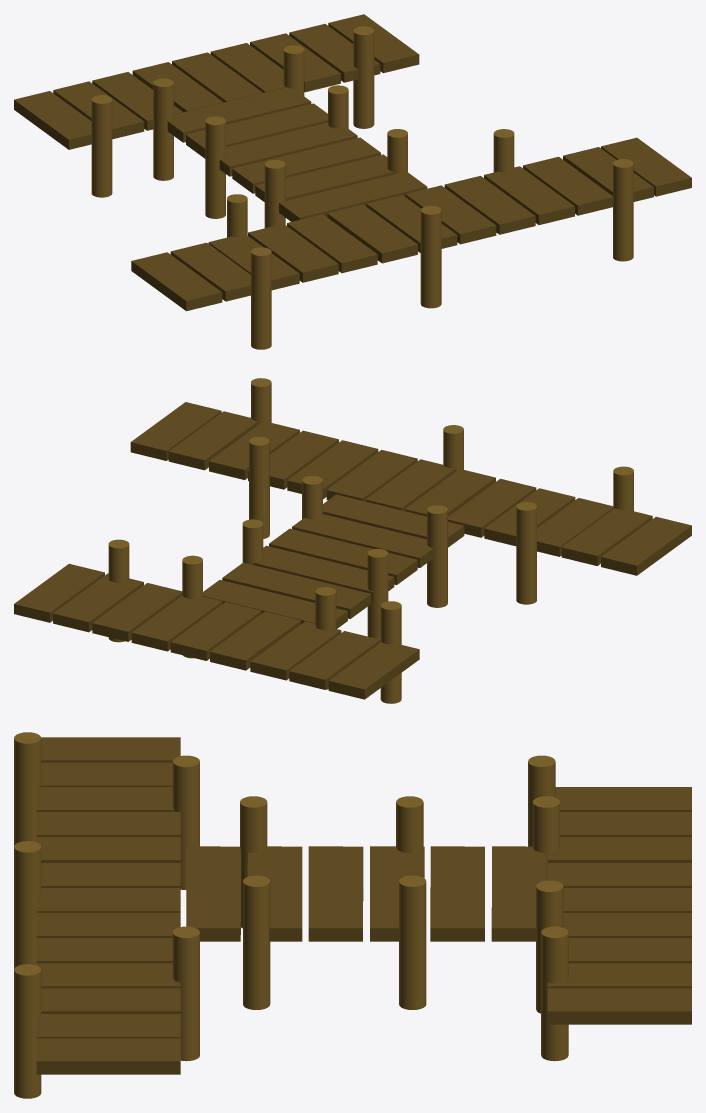
File: port_pier.fbx
3 views of the same model, one above another, from view 1: azimuth 30°, elevation 25°; view 2: azimuth 150°, elevation 25°; view 3: azimuth 270°, elevation 25° (orthographic). The views are drawn at different scales.
Visible parts, largest first — view 1: pasted__pasted__pCube1 (×10), pasted__pasted__pasted__pCube1 (×9), pasted__pCube1 (×5), pasted__pasted__pasted__pasted__pCube1 (×3), pasted__pasted__pasted__pCylinder1 (×4), pasted__pasted__pCylinder1 (×4), pasted__pCylinder1 (×3), pCylinder1, pCube1, pasted__pasted__pasted__pasted__pCylinder1; view 2: pasted__pasted__pCube1 (×10), pasted__pasted__pasted__pCube1 (×9), pasted__pCube1 (×5), pasted__pasted__pasted__pasted__pCube1 (×3), pasted__pasted__pCylinder1 (×4), pasted__pasted__pasted__pCylinder1 (×4), pasted__pCylinder1 (×3), pCube1, pCylinder1, pasted__pasted__pasted__pasted__pCylinder1; view 3: pasted__pasted__pCube1 (×10), pasted__pasted__pasted__pCube1 (×9), pasted__pCube1 (×5), pasted__pasted__pasted__pasted__pCube1 (×3), pasted__pasted__pasted__pCylinder1 (×4), pasted__pasted__pCylinder1 (×4), pasted__pCylinder1 (×3), pasted__pasted__pasted__pasted__pCylinder1, pCube1, pCylinder1.
Boxes of the visible parts, x1,y1,x2,y2 form: pasted__pasted__pCube1 (×10): [132, 14, 574, 301]; pasted__pasted__pasted__pCube1 (×9): [131, 137, 653, 311]; pasted__pCube1 (×5): [14, 24, 380, 282]; pasted__pasted__pasted__pasted__pCube1 (×3): [279, 137, 691, 221]; pasted__pasted__pasted__pCylinder1 (×4): [264, 85, 633, 308]; pasted__pasted__pCylinder1 (×4): [205, 45, 514, 349]; pasted__pCylinder1 (×3): [153, 26, 374, 237]; pCylinder1: [91, 95, 112, 197]; pCube1: [53, 81, 144, 139]; pasted__pasted__pasted__pasted__pCylinder1: [387, 129, 407, 174]; pasted__pasted__pCube1 (×10): [14, 430, 652, 670]; pasted__pasted__pasted__pCube1 (×9): [168, 411, 691, 584]; pasted__pCube1 (×5): [53, 488, 575, 699]; pasted__pasted__pasted__pasted__pCube1 (×3): [130, 402, 464, 547]; pasted__pasted__pCylinder1 (×4): [182, 436, 633, 658]; pasted__pasted__pasted__pCylinder1 (×4): [242, 378, 463, 607]; pasted__pCylinder1 (×3): [108, 502, 536, 689]; pCube1: [289, 631, 380, 689]; pCylinder1: [380, 601, 401, 703]; pasted__pasted__pasted__pasted__pCylinder1: [302, 476, 322, 518]; pasted__pasted__pCube1 (×10): [36, 762, 691, 1024]; pasted__pasted__pasted__pCube1 (×9): [36, 737, 363, 1038]; pasted__pCube1 (×5): [36, 787, 691, 988]; pasted__pasted__pasted__pasted__pCube1 (×3): [36, 846, 240, 1074]; pasted__pasted__pasted__pCylinder1 (×4): [14, 796, 426, 1098]; pasted__pasted__pCylinder1 (×4): [14, 732, 563, 1061]; pasted__pCylinder1 (×3): [172, 755, 568, 1061]; pasted__pasted__pasted__pasted__pCylinder1: [243, 875, 270, 1009]; pCube1: [560, 812, 691, 836]; pCylinder1: [528, 755, 555, 846].
Size of the model in its own units: 19 by 3.37 by 16.8.
